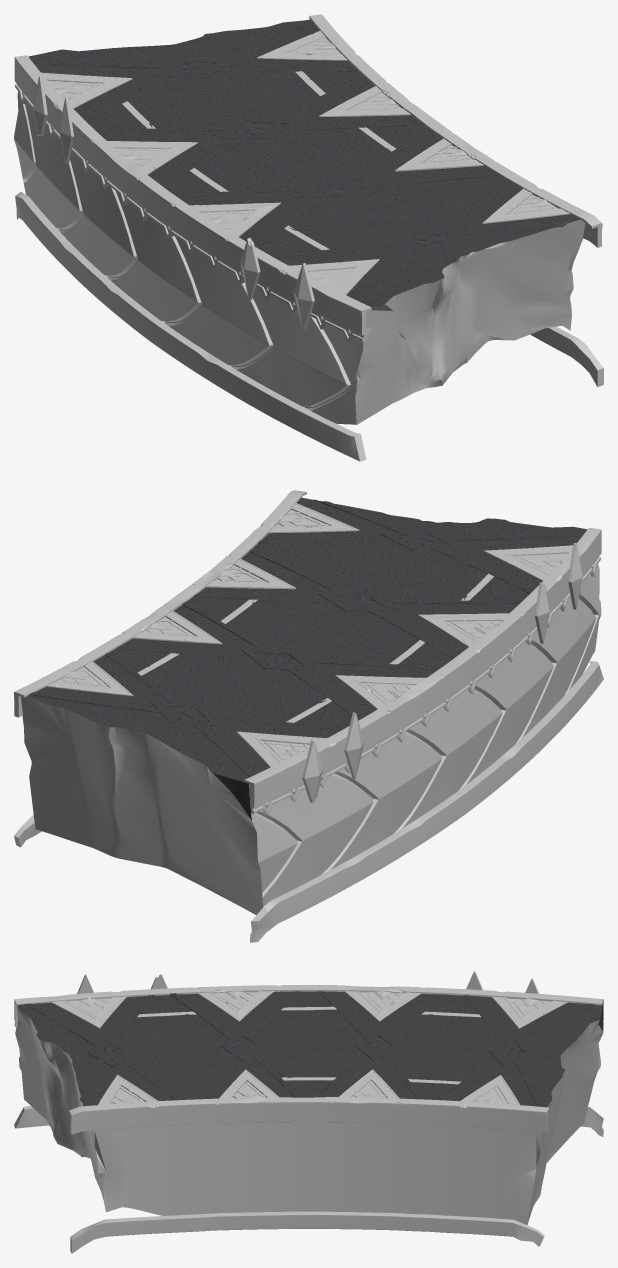
3 renders of one model, top to bottom at view 1: azimuth 30°, elevation 25°; view 2: azimuth 150°, elevation 25°; view 3: azimuth 270°, elevation 25°, orthographic. The views are drawn at different scales.
Parts seen in each view (by area): view 1: SM_Kuldras_Arena_Platform_01_LOD0; view 2: SM_Kuldras_Arena_Platform_01_LOD0; view 3: SM_Kuldras_Arena_Platform_01_LOD0.
Boxes of the visible parts, bbox=[...] form: SM_Kuldras_Arena_Platform_01_LOD0: bbox=[14, 14, 603, 461]; SM_Kuldras_Arena_Platform_01_LOD0: bbox=[14, 490, 603, 942]; SM_Kuldras_Arena_Platform_01_LOD0: bbox=[14, 971, 603, 1253].
Size of the model in its own units: 33.68 by 19.14 by 64.6.
